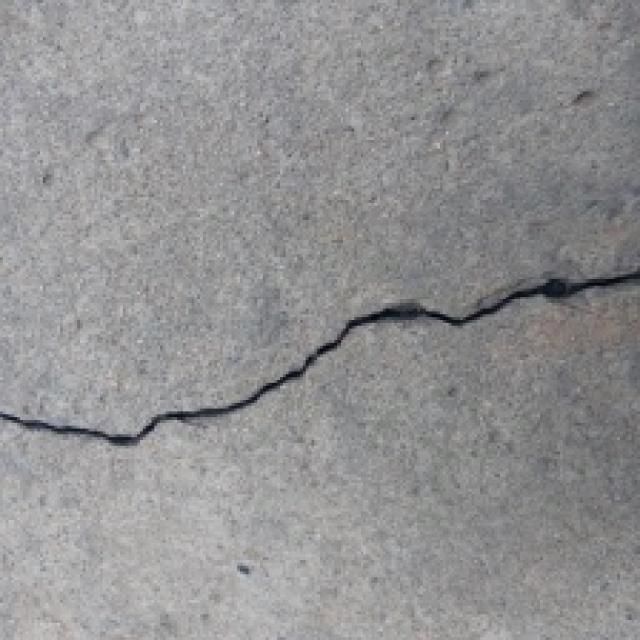SurfaceCrack: (10, 246, 640, 468)
